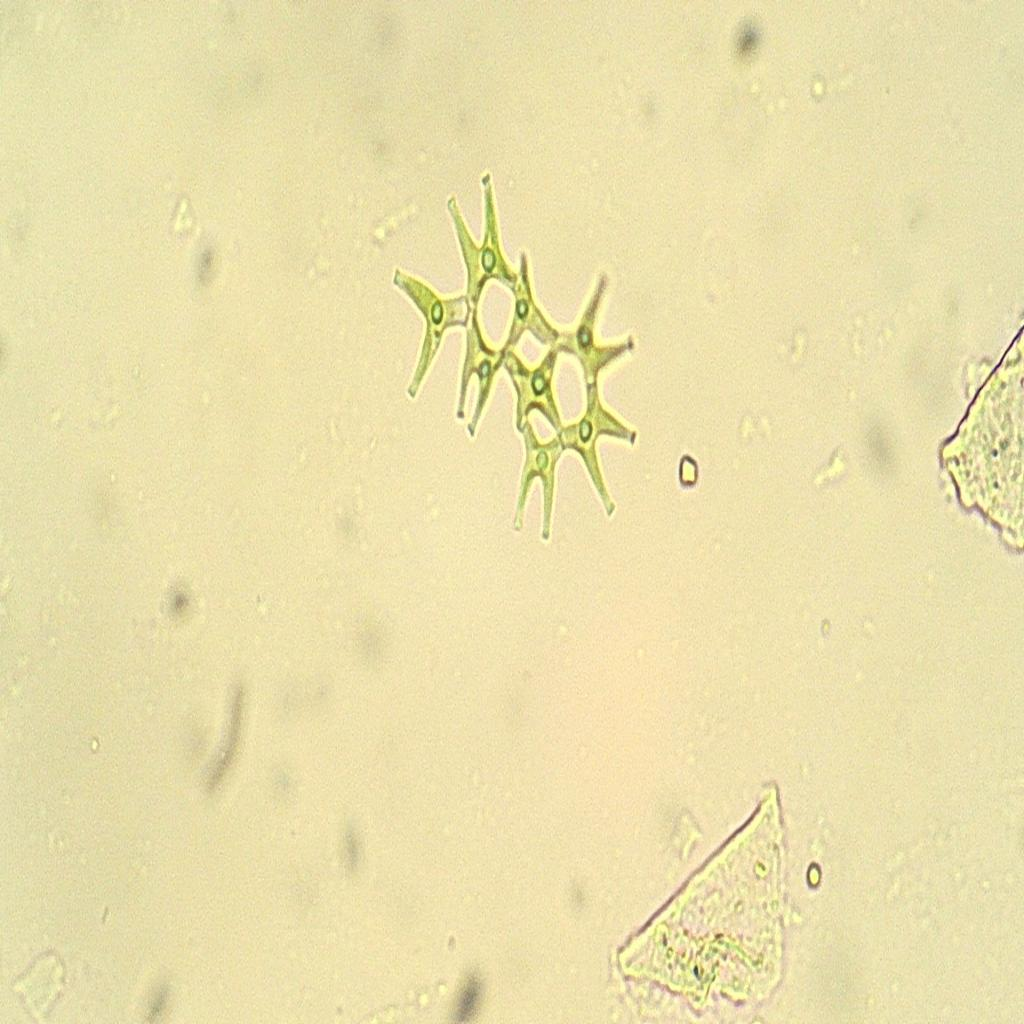Pediastrum_1TH: (378, 166, 671, 554)
